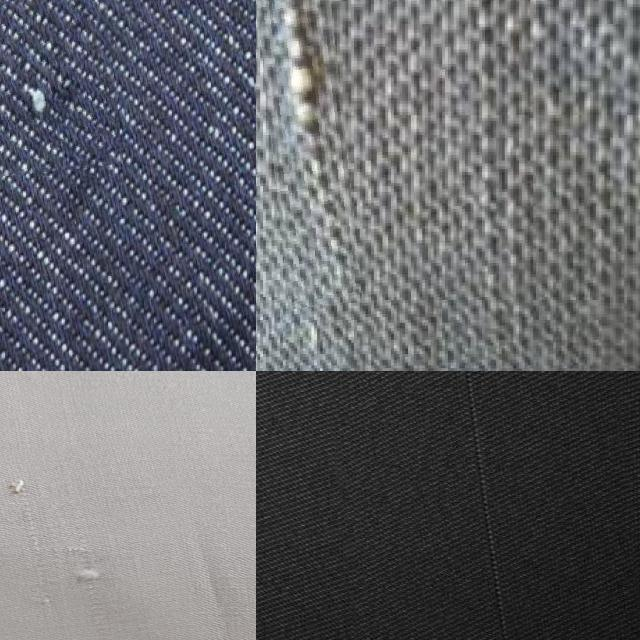Thread_other: (311, 371, 632, 640), (0, 441, 196, 640), (258, 0, 352, 308)
